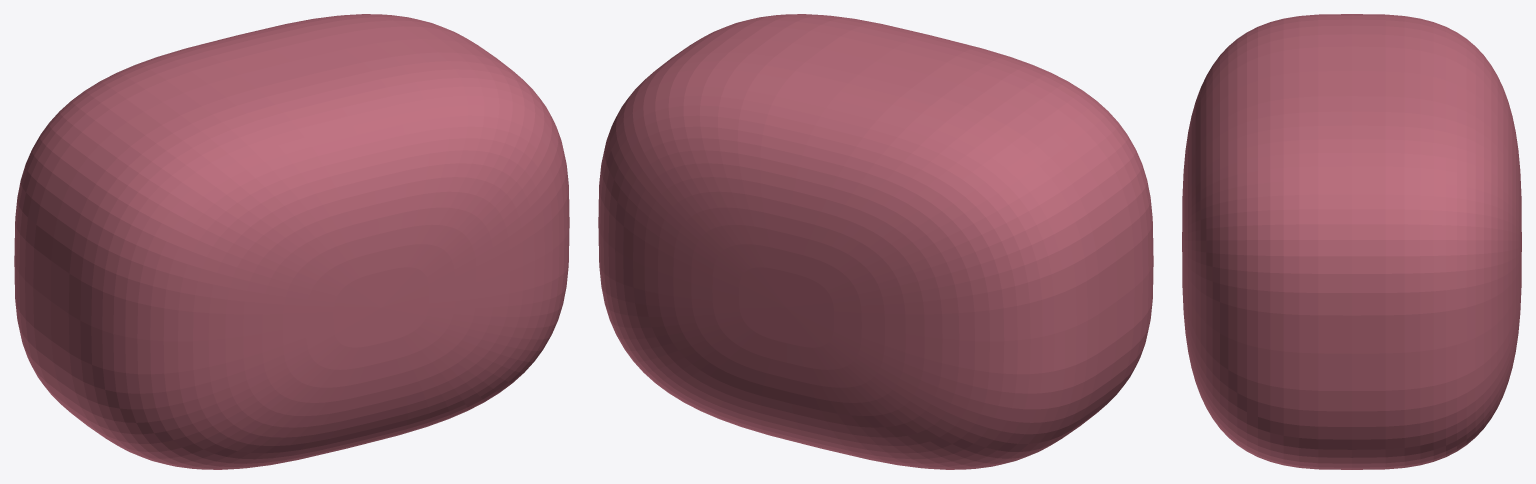
The model's file is bowel_lesion.glb.
3 views of the same model, side by side, from view 1: azimuth 30°, elevation 25°; view 2: azimuth 150°, elevation 25°; view 3: azimuth 270°, elevation 25° (orthographic). The views are drawn at different scales.
Parts seen in each view (by area): view 1: bowel_lesion; view 2: bowel_lesion; view 3: bowel_lesion.
Boxes of the visible parts, left/top/right/bottom form: bowel_lesion: left=14, top=14, right=569, bottom=469; bowel_lesion: left=598, top=14, right=1153, bottom=469; bowel_lesion: left=1182, top=14, right=1521, bottom=469.
Size of the model in its own units: 0.028 by 0.02 by 0.018.
